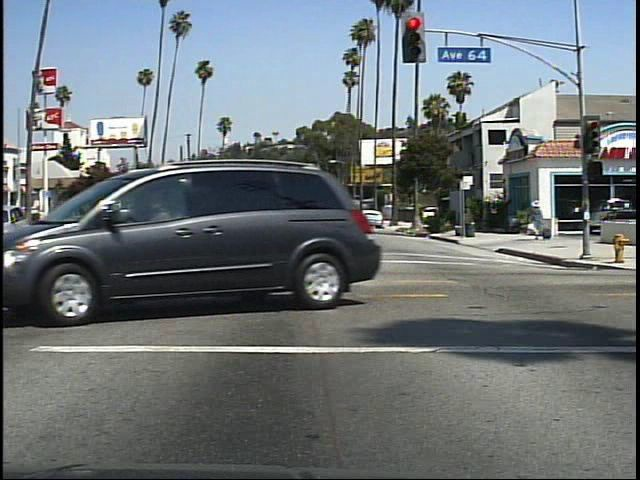person: (529, 195, 548, 247)
